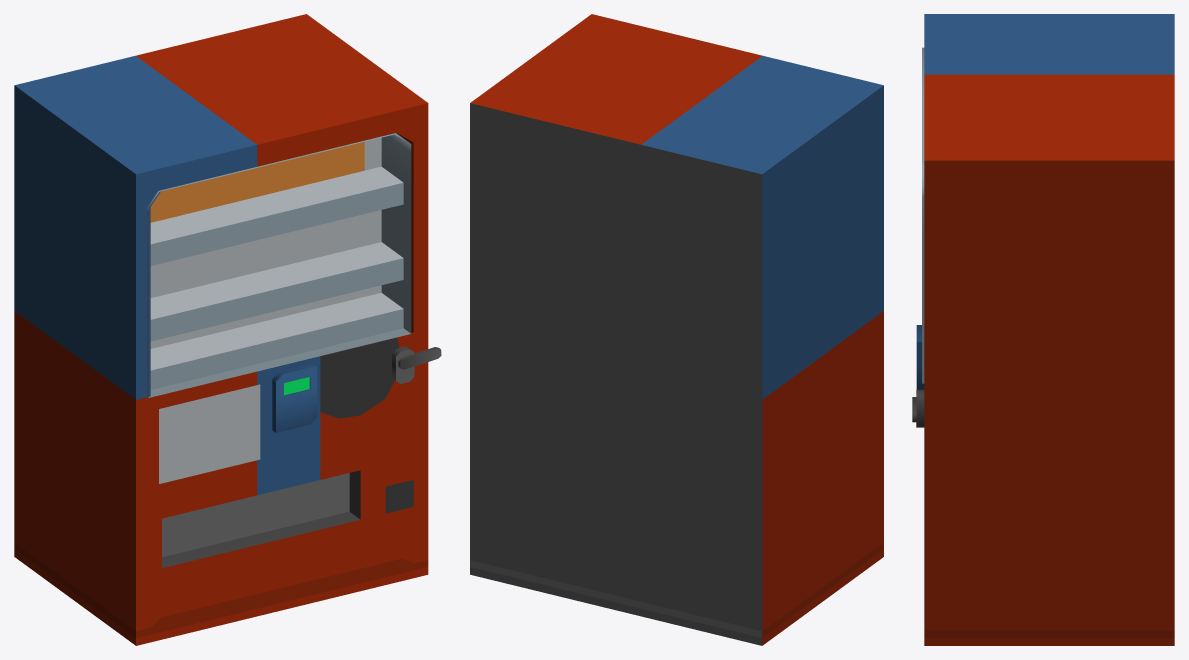
Rendered from VendingMachine_Empty.fbx.
3 views of the same model, side by side, from view 1: azimuth 30°, elevation 25°; view 2: azimuth 150°, elevation 25°; view 3: azimuth 270°, elevation 25° (orthographic). The views are drawn at different scales.
Parts seen in each view (by area): view 1: VendingMachine_Empty; view 2: VendingMachine_Empty; view 3: VendingMachine_Empty.
Boxes of the visible parts, x1,y1,x2,y2 form: VendingMachine_Empty: (14, 14, 441, 645); VendingMachine_Empty: (470, 14, 883, 645); VendingMachine_Empty: (912, 14, 1174, 645).
Size of the model in its own units: 141 by 212 by 104.
